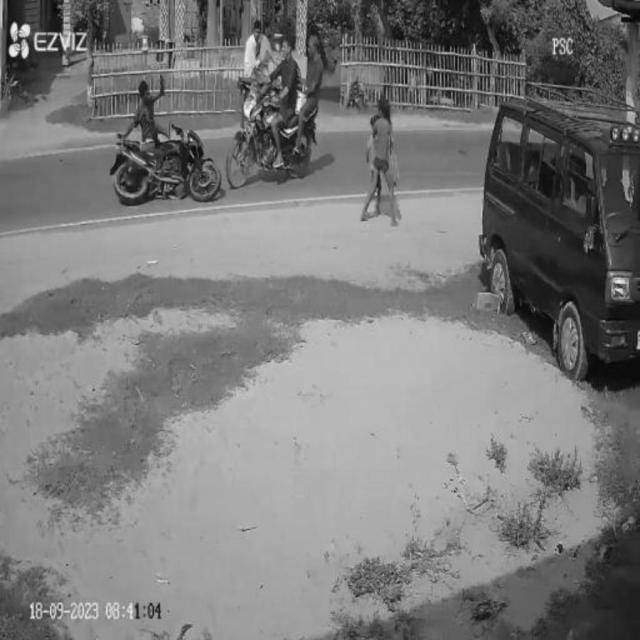person: (367, 94, 401, 236)
vehicle: (483, 93, 637, 389), (119, 72, 220, 206), (236, 48, 317, 185)
